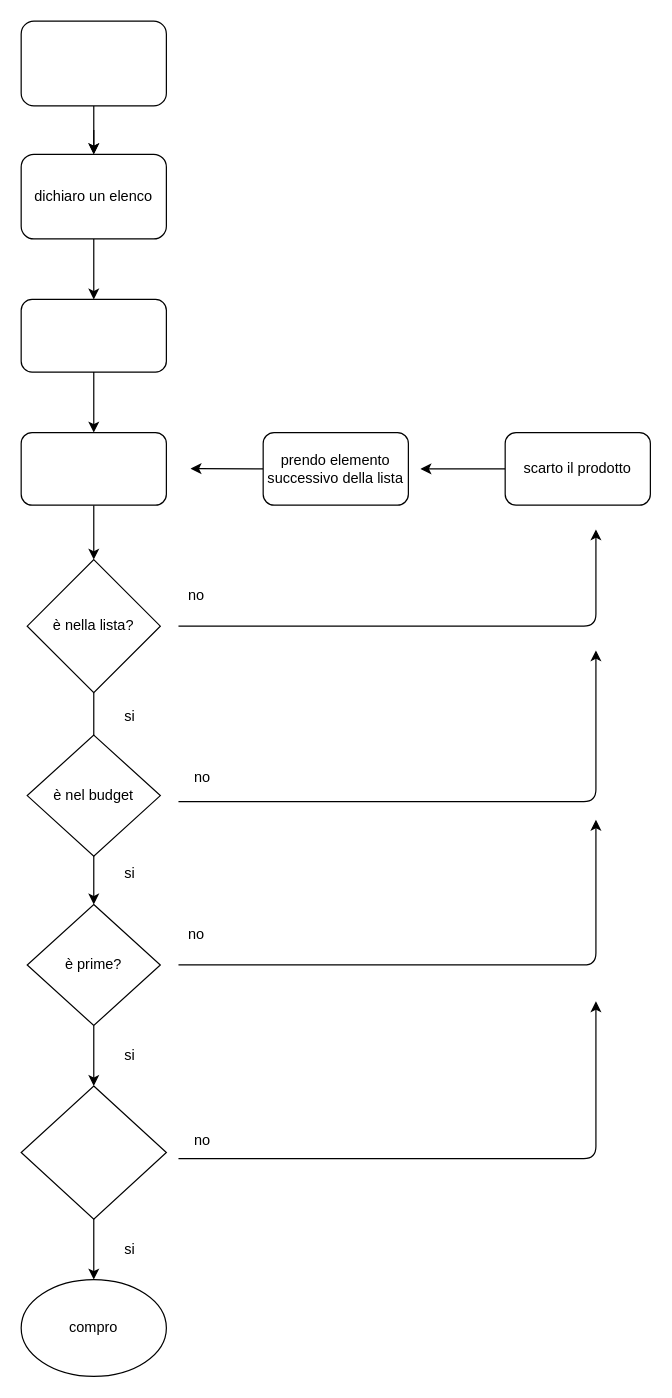
Image size: 672x1398. Some labels were removed from this diagram. Here are the shapes that lost their labels. From the top down, the centre of each, then its label:
At point 93,63: "comprare il regalo perfetto su amazon".
At point 93,335: "dichiaro un budget".
At point 93,468: "inizio ricerca".
At point 93,1152: "viene cosegnato domani?".
